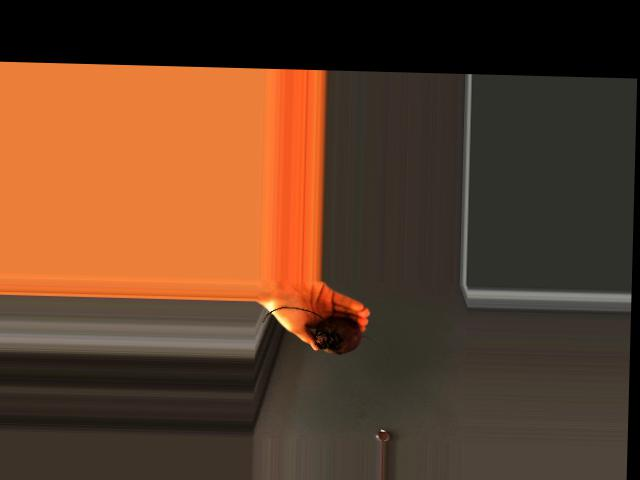beet: (263, 305, 375, 354)
